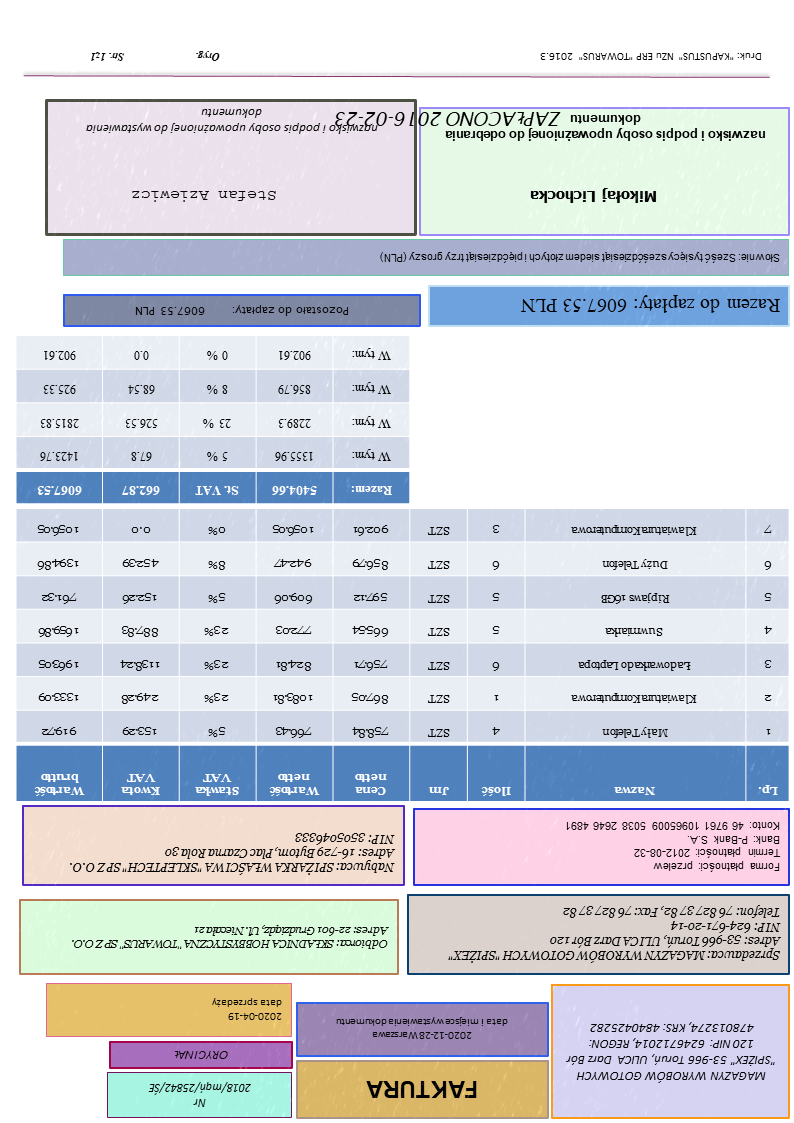Table: (14, 506, 791, 804), (16, 334, 412, 505)
TextBox: (445, 901, 783, 968), (66, 829, 397, 879), (564, 1019, 778, 1086), (563, 818, 783, 876), (71, 923, 392, 954), (84, 106, 379, 139), (446, 112, 770, 142), (379, 249, 782, 268), (518, 292, 784, 318), (329, 104, 561, 131), (333, 1013, 512, 1044), (538, 48, 766, 67), (133, 302, 352, 319), (148, 1078, 254, 1110), (527, 186, 660, 210), (129, 186, 279, 205), (363, 1077, 481, 1101), (210, 991, 286, 1026), (87, 50, 223, 66), (172, 1046, 231, 1064)
